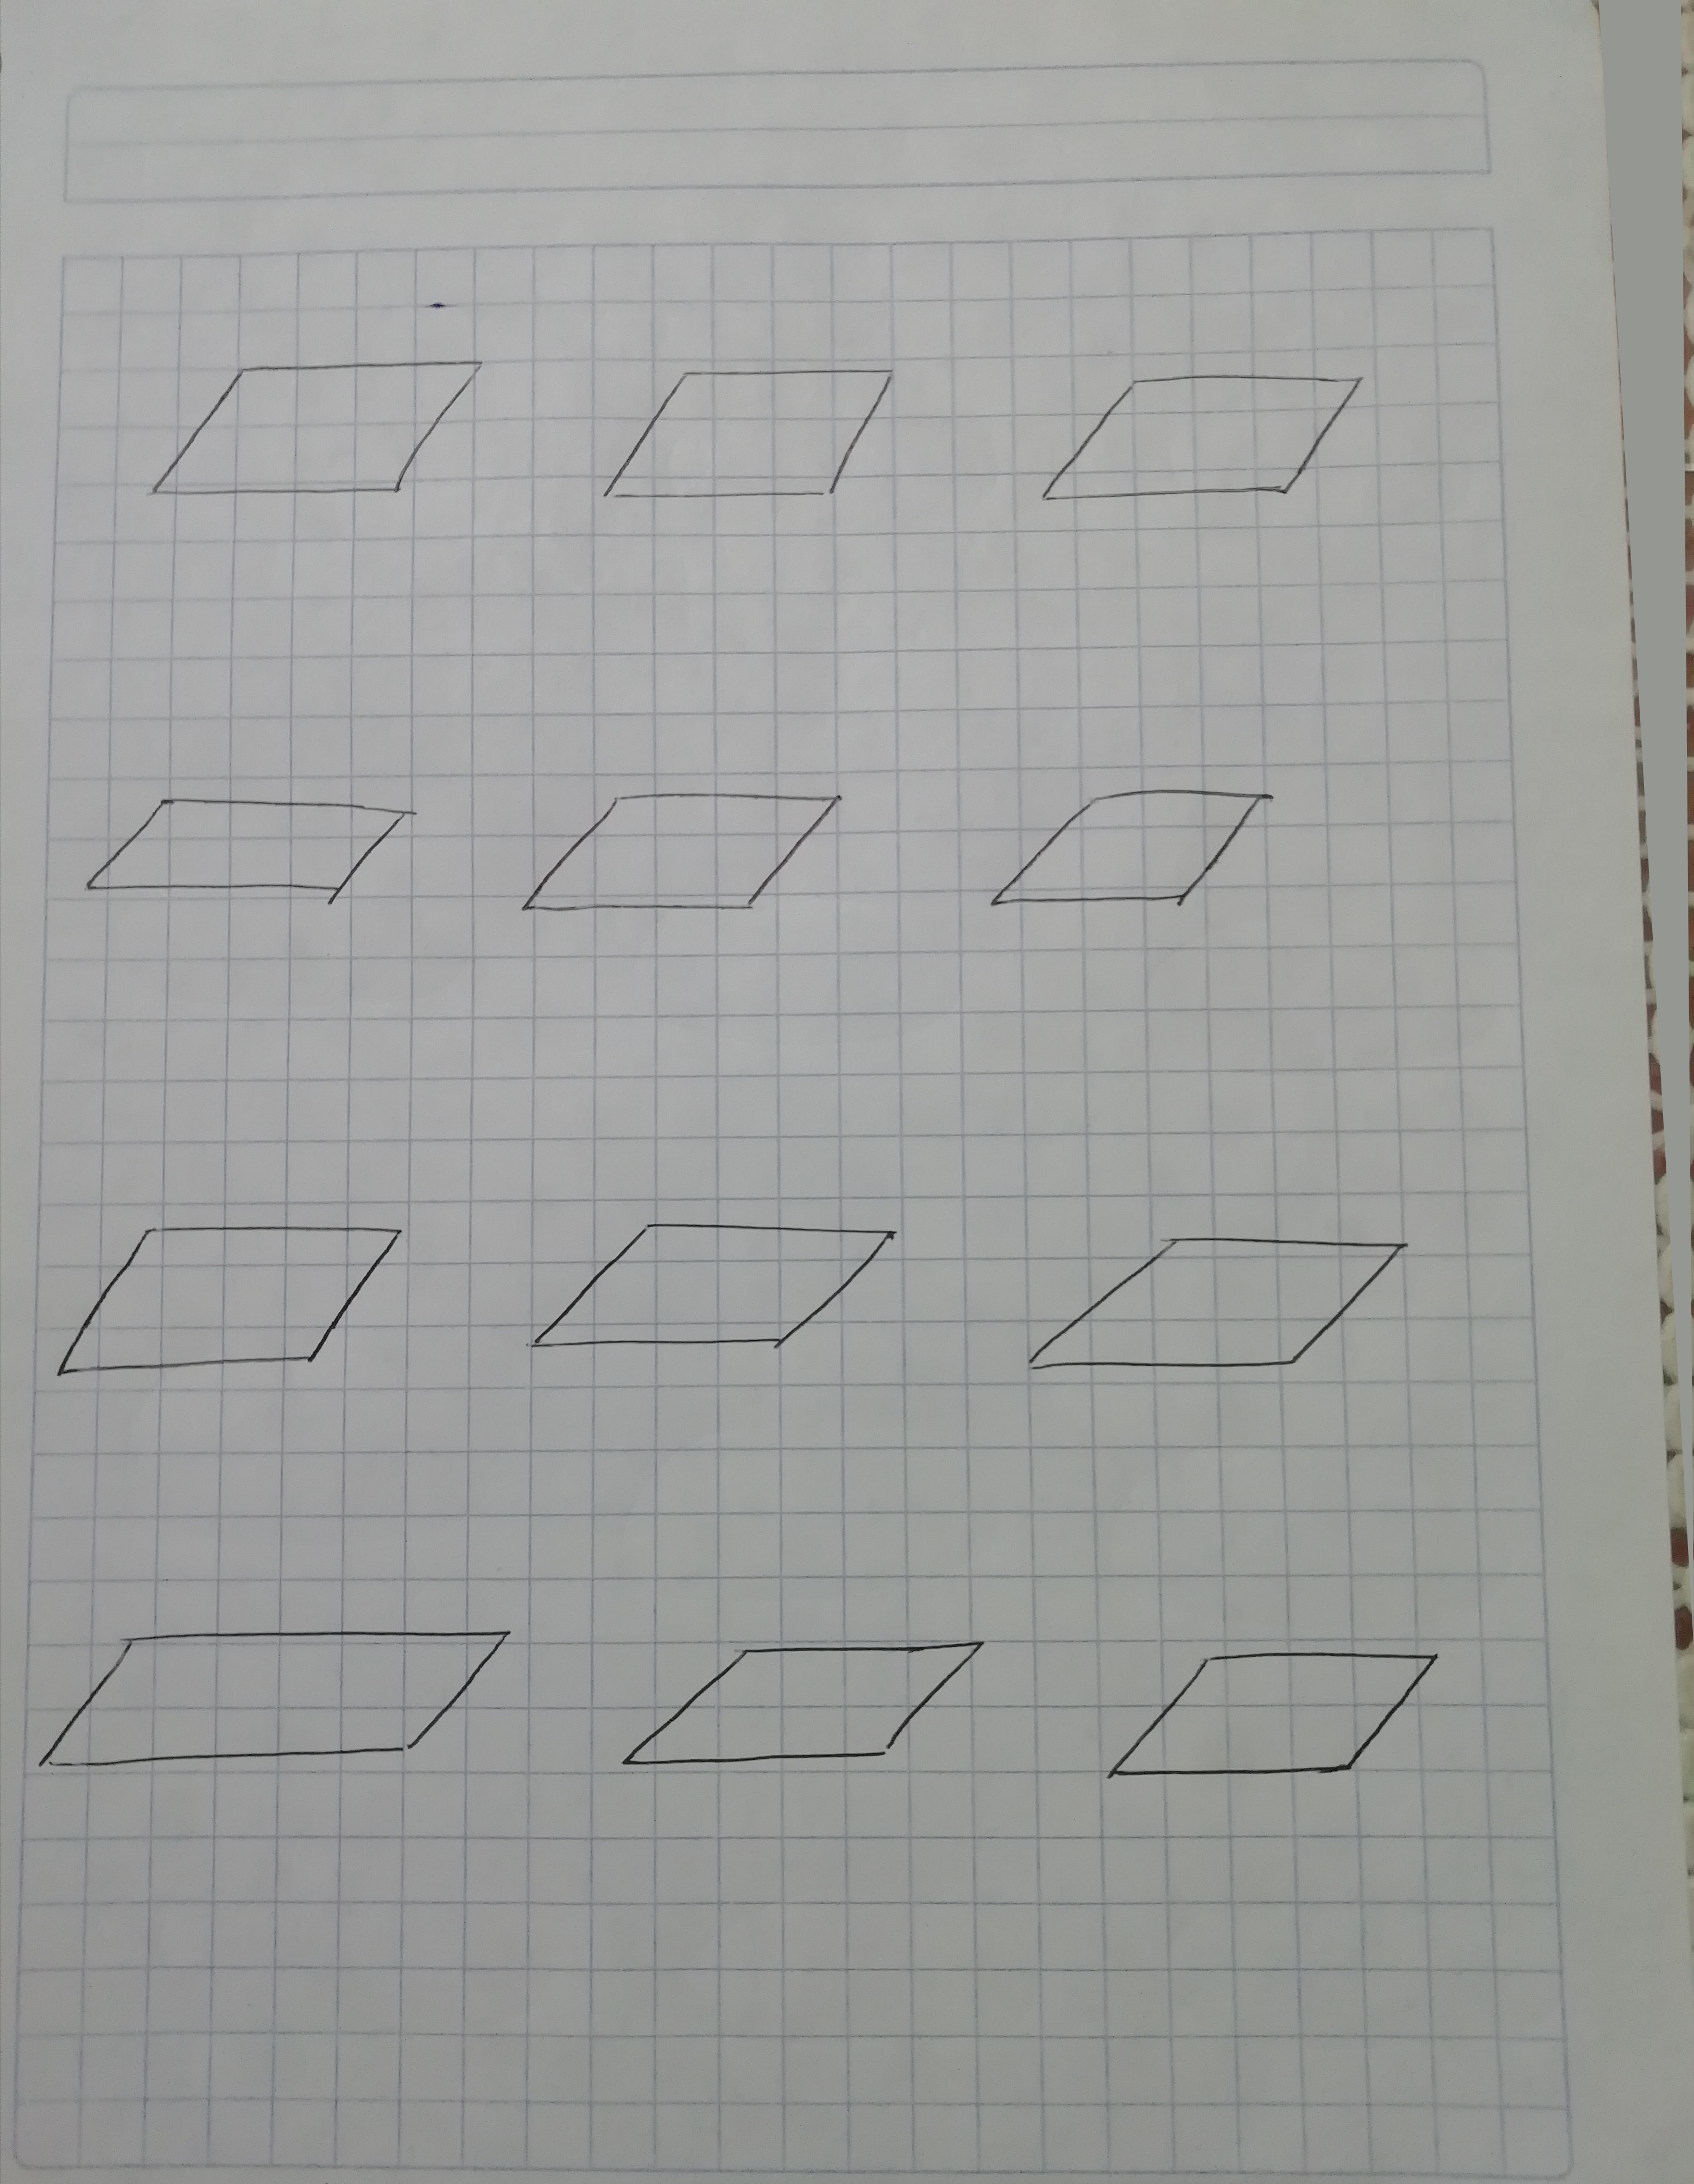scan: (14, 1585, 542, 1835), (493, 1174, 927, 1438), (987, 1181, 1449, 1427), (1079, 1578, 1473, 1838), (597, 1597, 1012, 1842), (16, 1182, 431, 1423), (112, 312, 501, 553), (468, 753, 865, 977), (556, 339, 927, 546), (51, 769, 434, 966), (964, 743, 1306, 952), (1021, 349, 1379, 532)
